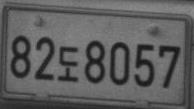0: (108, 40, 130, 85)
2: (34, 35, 55, 80)
5: (133, 43, 155, 87)
7: (158, 44, 180, 89)
8: (9, 34, 31, 79), (83, 39, 105, 84)
도: (57, 45, 79, 81)
